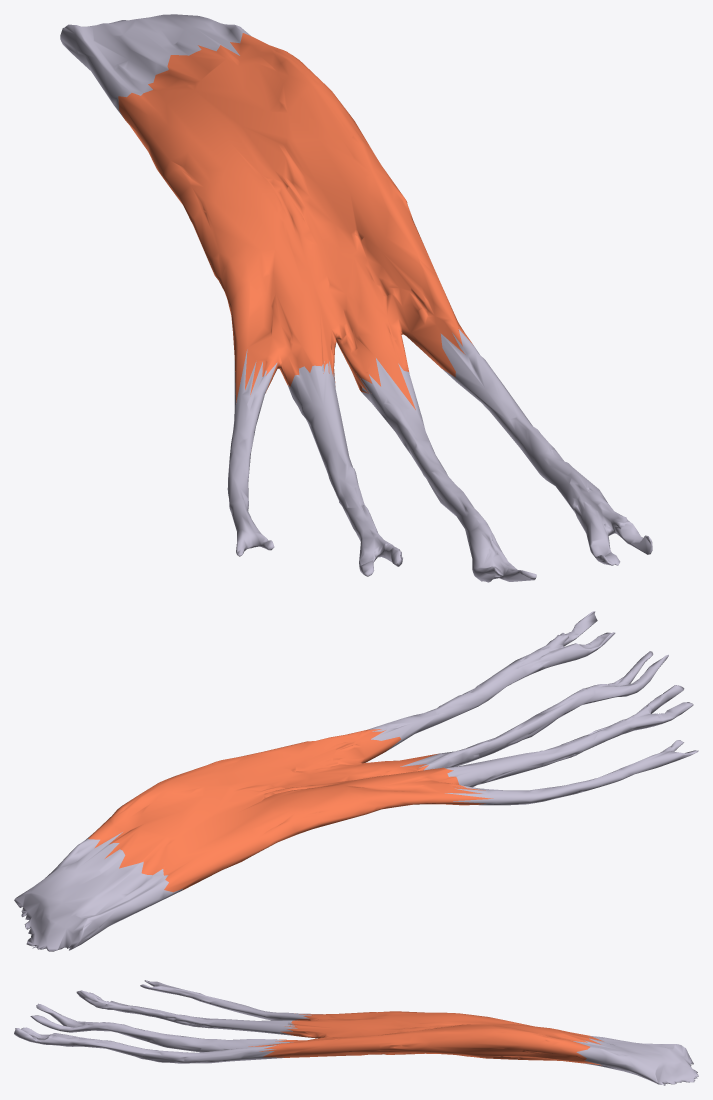
File: Flexor_digitorum_brevis.r_Generated_Mesh_From_X3D.504.glb
The picture shows the model from 3 angles, top to bottom: view 1: azimuth 30°, elevation 25°; view 2: azimuth 150°, elevation 25°; view 3: azimuth 270°, elevation 25°; orthographic projection. The views are drawn at different scales.
Parts seen in each view (by area): view 1: Flexor_digitorum_brevis.r_Generated_Mesh_From_X3D.504; view 2: Flexor_digitorum_brevis.r_Generated_Mesh_From_X3D.504; view 3: Flexor_digitorum_brevis.r_Generated_Mesh_From_X3D.504.
Part boxes in pixels (x1,y1,x2,y2): Flexor_digitorum_brevis.r_Generated_Mesh_From_X3D.504: [60, 14, 652, 582]; Flexor_digitorum_brevis.r_Generated_Mesh_From_X3D.504: [14, 611, 698, 951]; Flexor_digitorum_brevis.r_Generated_Mesh_From_X3D.504: [14, 980, 698, 1085].
Size of the model in its own units: 0.0784 by 0.0201 by 0.1881.
